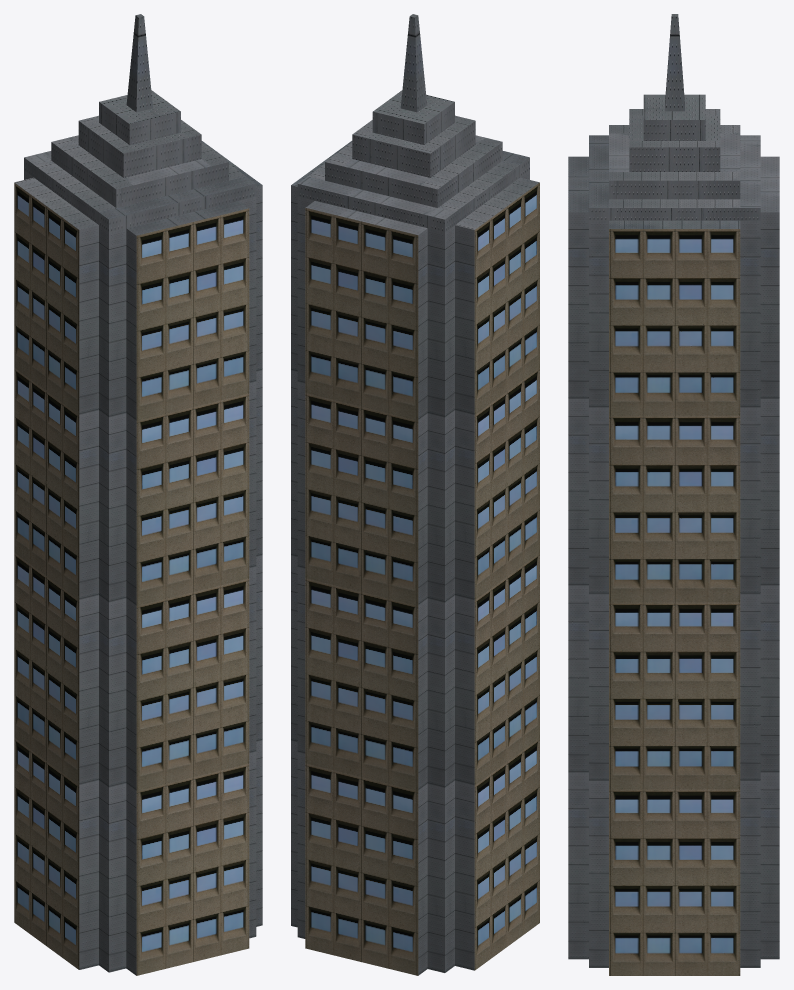
Rendered from skyscraper4.FBX.
3 renders of one model, left to right at view 1: azimuth 30°, elevation 25°; view 2: azimuth 150°, elevation 25°; view 3: azimuth 270°, elevation 25°, orthographic.
Parts seen in each view (by area): view 1: Box001; view 2: Box001; view 3: Box001.
Boxes of the visible parts, box(x1,y1,x2,y2) form: Box001: box(14, 14, 262, 975); Box001: box(291, 14, 539, 975); Box001: box(568, 14, 779, 975).
Bounding box in the file's own units: 125 × 589 × 123.
